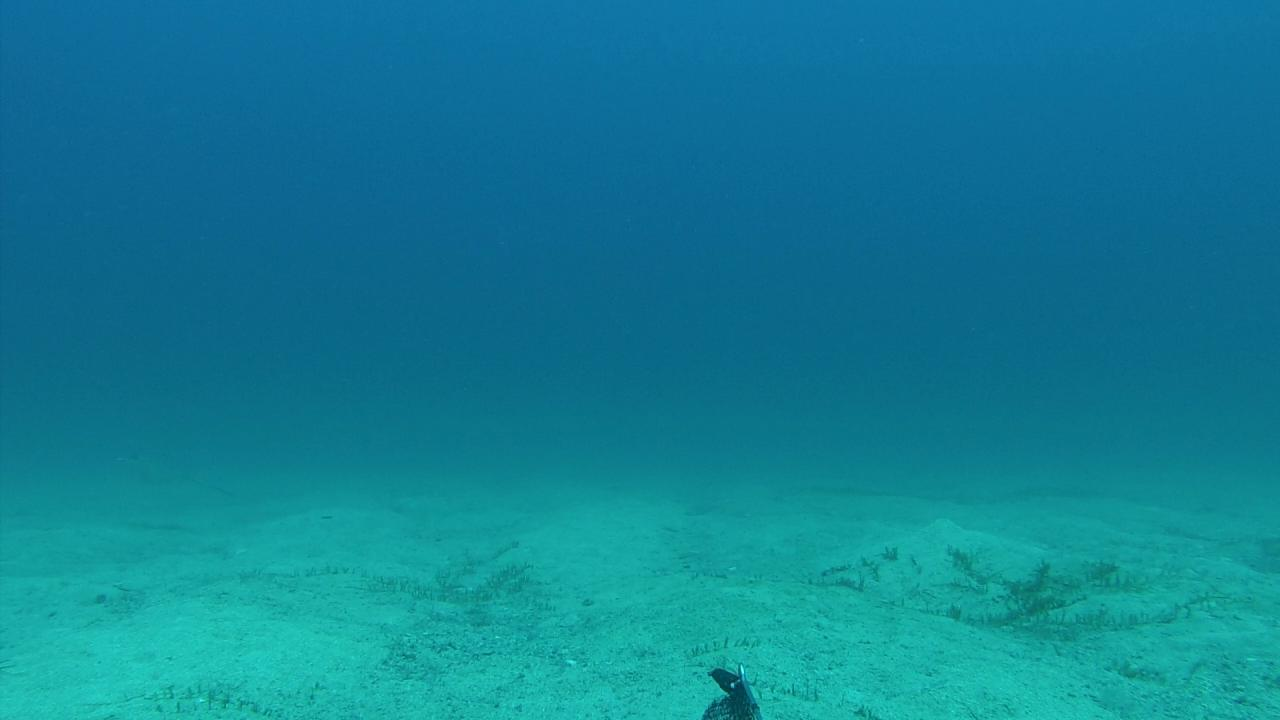dasyatis: (111, 452, 238, 498)
